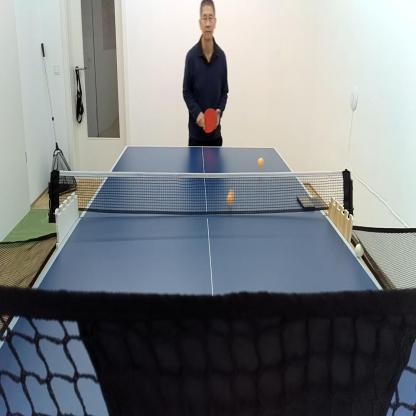Ball: (354, 242, 365, 259), (226, 190, 236, 206), (257, 156, 265, 167)
